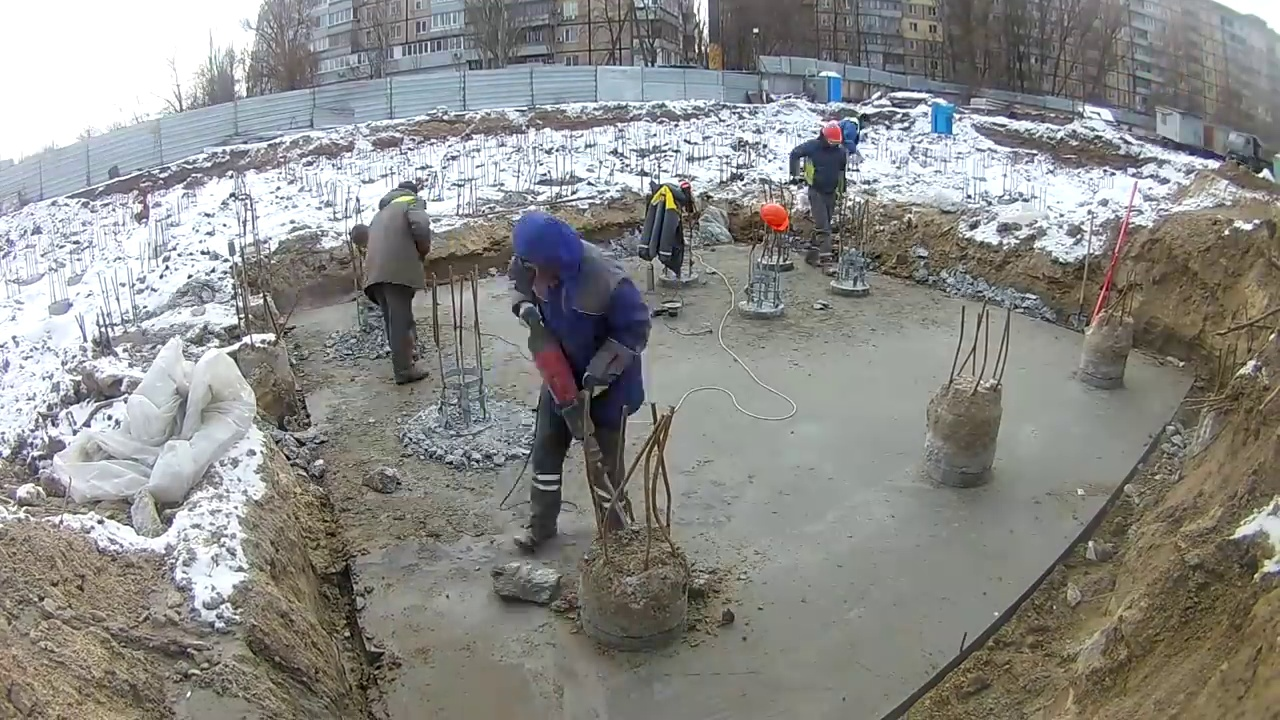helmet: (760, 204, 789, 232), (822, 124, 843, 145)
helmet-off: (513, 210, 584, 293), (378, 182, 421, 209)
helmet-on: (819, 122, 845, 148)
person: (501, 208, 651, 561), (349, 182, 434, 384), (789, 120, 850, 275)
